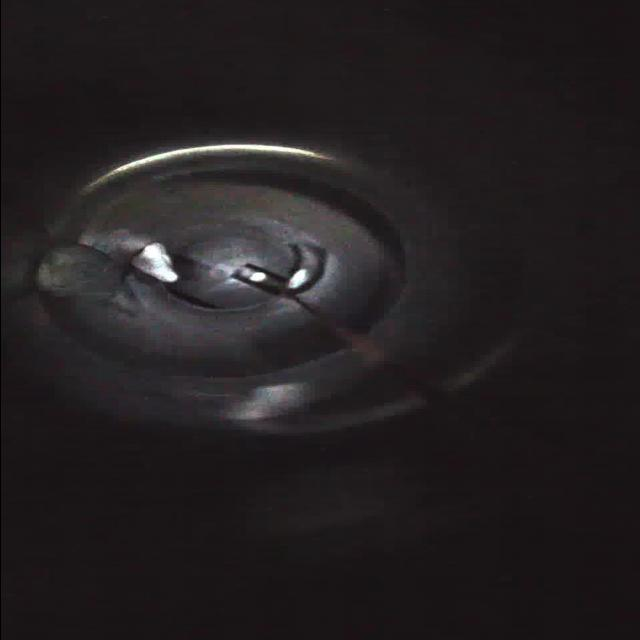impurity: (27, 240, 127, 300), (128, 242, 180, 286)
